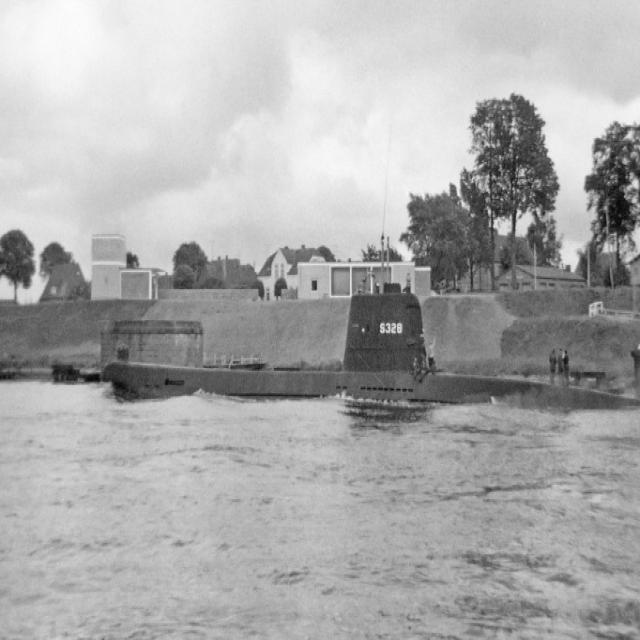submarine: (100, 290, 640, 415)
